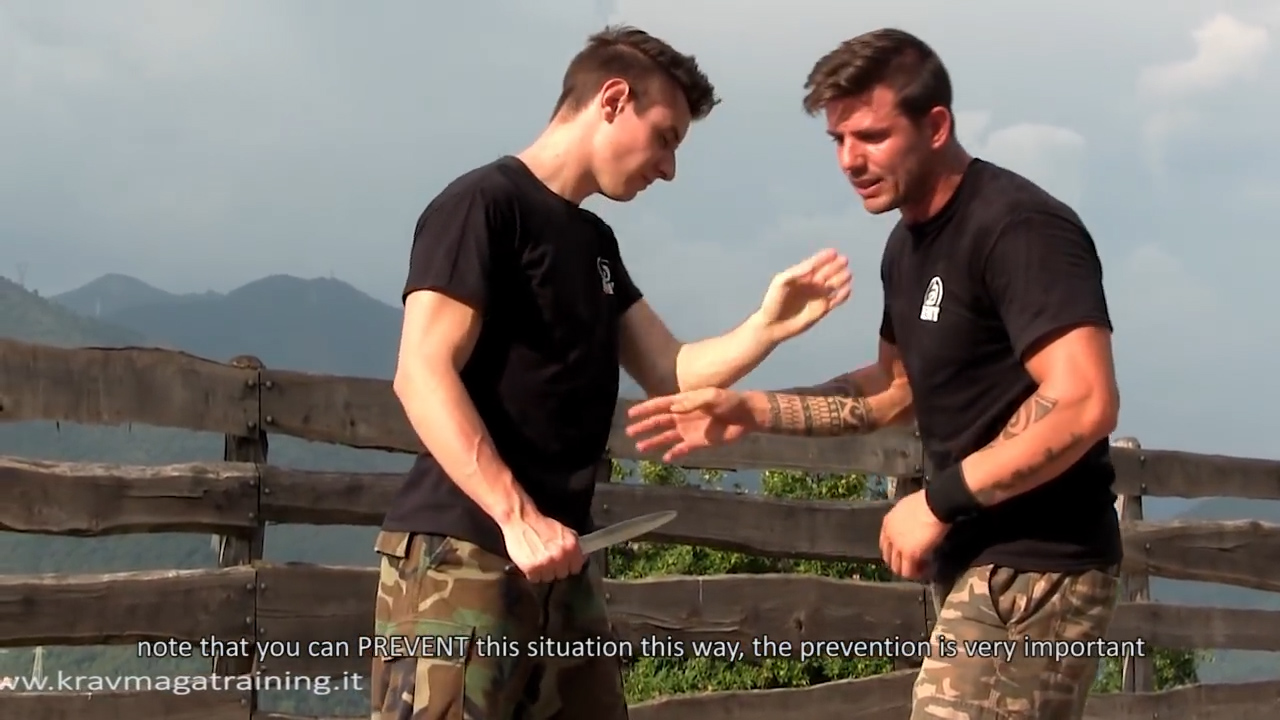knife: (497, 503, 691, 588)
